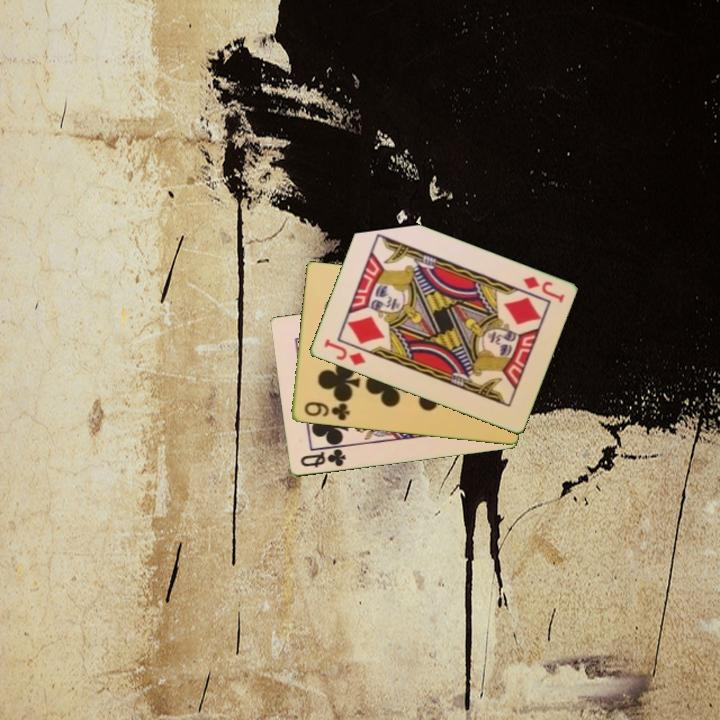9c: (300, 398, 353, 424)
Jd: (519, 273, 567, 306), (320, 336, 368, 368)
Qc: (297, 446, 348, 471)
